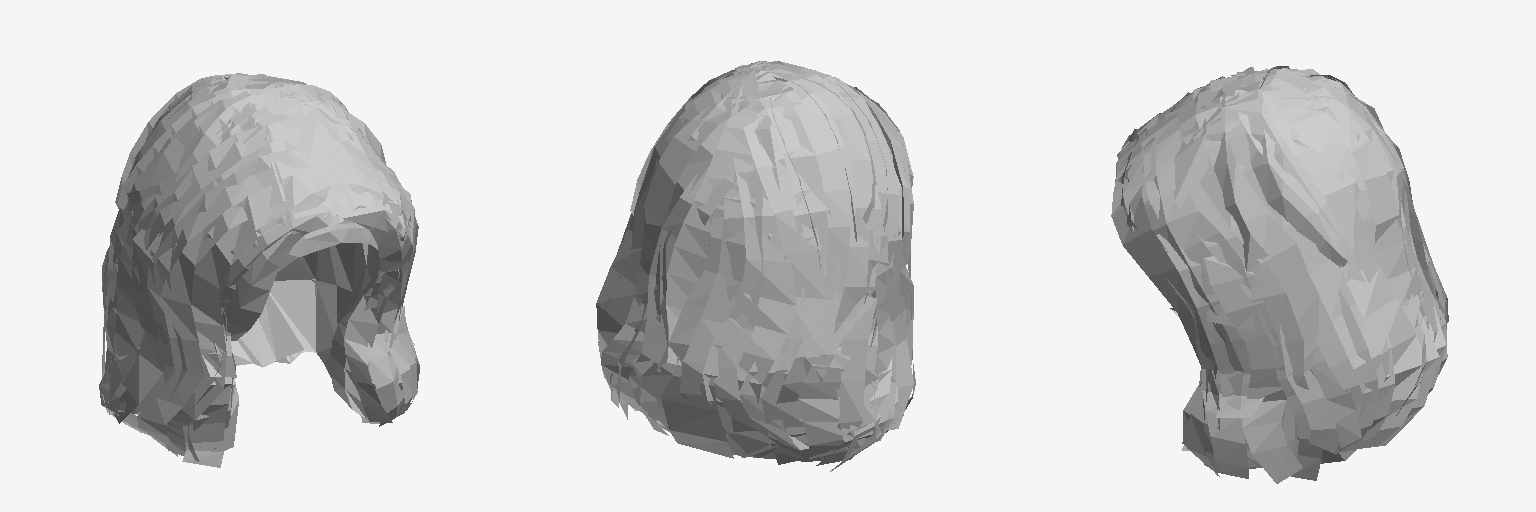
Rendered from hair_008.obj.
3 views of the same model, side by side, from view 1: azimuth 30°, elevation 25°; view 2: azimuth 150°, elevation 25°; view 3: azimuth 270°, elevation 25° (orthographic).
Bounding box in the file's own units: 24.16 × 29.56 × 25.77.